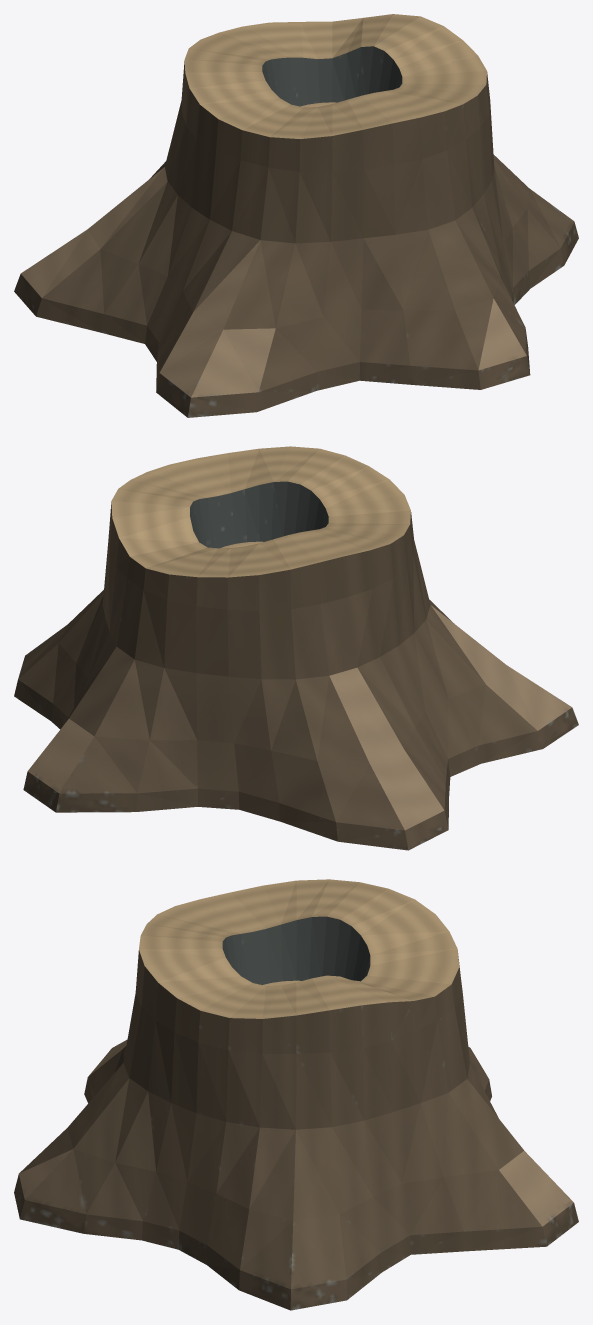
File: forest_tree_stump_old.glb
3 renders of one model, top to bottom at view 1: azimuth 30°, elevation 25°; view 2: azimuth 150°, elevation 25°; view 3: azimuth 270°, elevation 25°, orthographic. The views are drawn at different scales.
Visible parts, largest first — view 1: TreeStumpOld; view 2: TreeStumpOld; view 3: TreeStumpOld.
Part boxes in pixels (<box>): TreeStumpOld: <box>14,14,578,417</box>; TreeStumpOld: <box>14,446,578,850</box>; TreeStumpOld: <box>14,879,578,1310</box>.
Size of what is drawn, in the model's own units: 1 by 0.45 by 0.95.
Materials: 1 (1 with a texture image).
